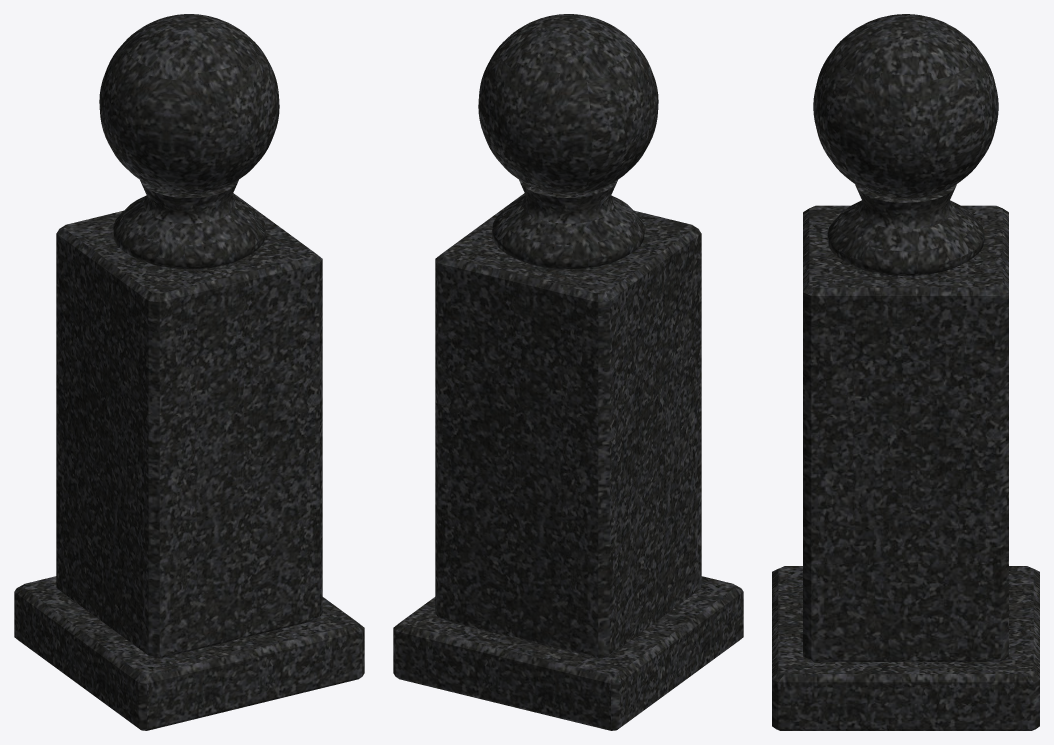
The model's file is post-stone-baluster.glb.
3 renders of one model, left to right at view 1: azimuth 30°, elevation 25°; view 2: azimuth 150°, elevation 25°; view 3: azimuth 270°, elevation 25°, orthographic. The views are drawn at different scales.
Parts seen in each view (by area): view 1: post-stone-baluster; view 2: post-stone-baluster; view 3: post-stone-baluster.
Boxes of the visible parts, x1,y1,x2,y2 form: post-stone-baluster: (14, 14, 364, 730); post-stone-baluster: (393, 14, 743, 730); post-stone-baluster: (772, 14, 1039, 730).
Size of the model in its own units: 0.13 by 0.35 by 0.13.
Materials: 2 (2 with a texture image).
